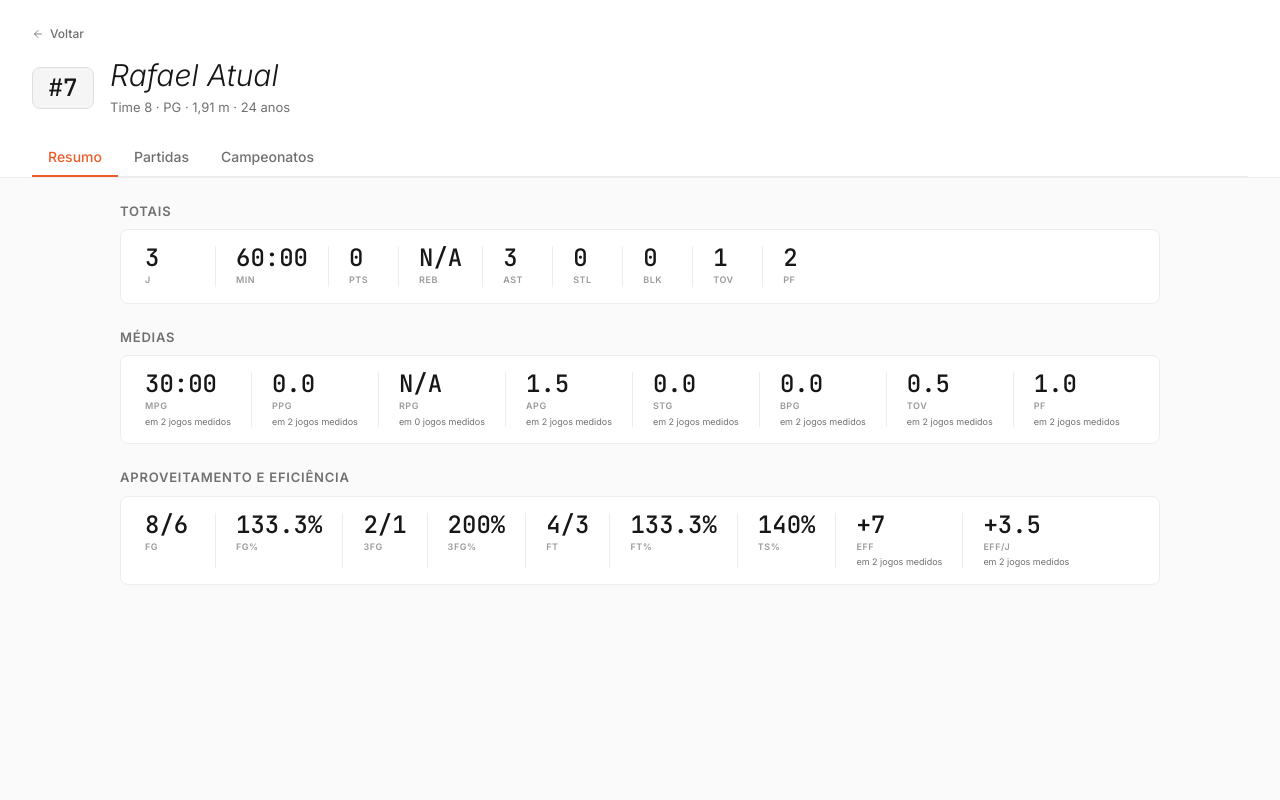
Test case: AthleteDetailPage › renders snapshot team, season fallback and server values without a measured-games caption
Expected: the heading "Rafael Atual" is shown, [110,57,278,93]
Click the tab "Campeonatos": (267,157) [205,138,330,176]
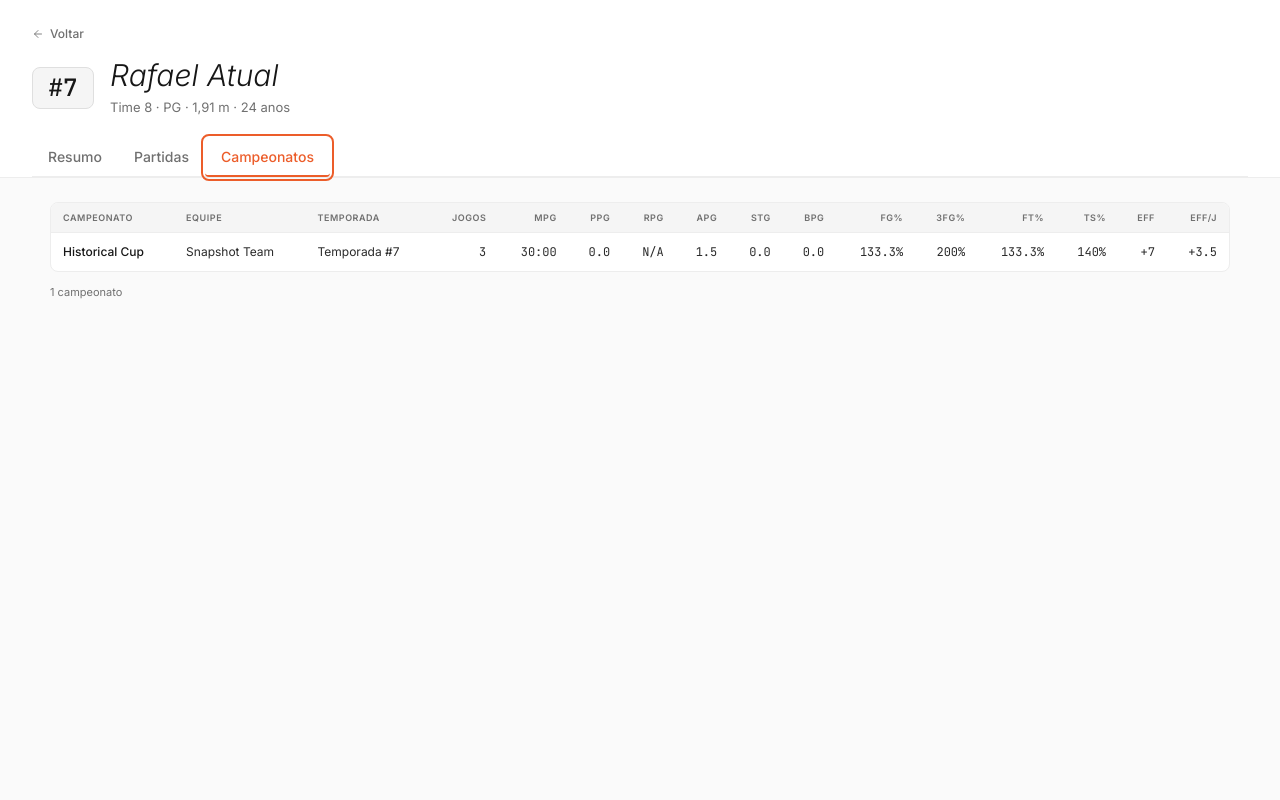
Now the link "Snapshot Team" is shown, box [186,244,274,259]
Now the text "Temporada #7" is shown, box [306,232,430,271]
Now the text "em 2 jogos medidos" is gone
